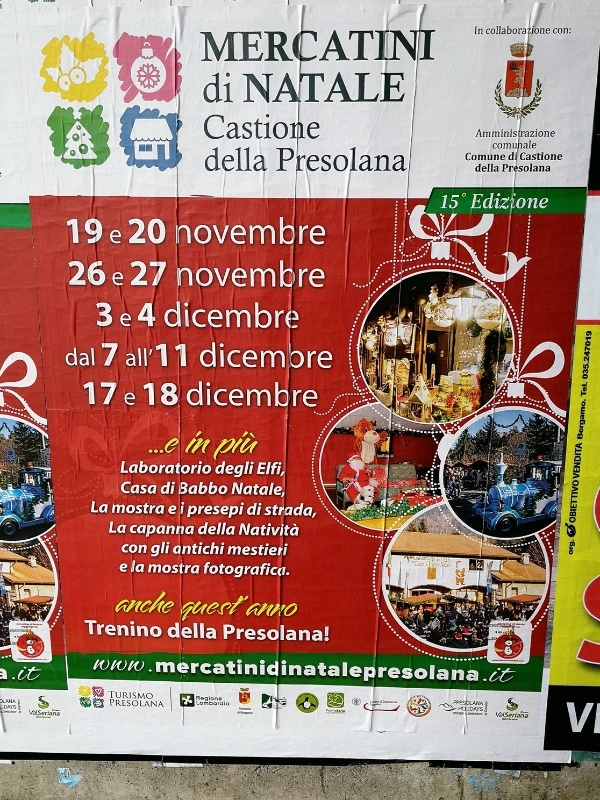text: (577, 697, 592, 740), (129, 580, 144, 616), (145, 580, 160, 616), (161, 580, 176, 616), (209, 71, 224, 106), (225, 426, 240, 461), (241, 426, 256, 461), (209, 30, 224, 64), (225, 30, 240, 64), (241, 30, 256, 64), (257, 30, 272, 64), (273, 30, 288, 64), (289, 30, 304, 64), (305, 30, 320, 64), (321, 30, 336, 64), (337, 30, 352, 64), (353, 30, 368, 64), (369, 30, 384, 64), (385, 30, 400, 64), (401, 30, 416, 64), (417, 30, 432, 64), (177, 257, 192, 291), (193, 257, 208, 291), (209, 257, 224, 291), (225, 257, 240, 291), (241, 257, 256, 291), (257, 257, 272, 291), (273, 257, 288, 291), (289, 257, 304, 291), (305, 257, 320, 291), (257, 72, 272, 105), (273, 72, 288, 105), (289, 72, 304, 105), (305, 72, 320, 105), (321, 72, 336, 105), (337, 72, 352, 105), (353, 72, 368, 105), (369, 72, 384, 105), (385, 72, 400, 105), (585, 330, 592, 398), (177, 215, 192, 246), (193, 215, 208, 246), (209, 215, 224, 246), (225, 215, 240, 246), (241, 215, 256, 246), (257, 215, 272, 246), (273, 215, 288, 246), (289, 215, 304, 246), (305, 215, 320, 246), (242, 72, 256, 105), (129, 218, 144, 247), (145, 218, 160, 247), (177, 301, 192, 330), (193, 301, 208, 330), (209, 301, 224, 330), (225, 301, 240, 330), (241, 301, 256, 330), (257, 301, 272, 330), (273, 301, 288, 330), (97, 657, 112, 686), (113, 657, 128, 686), (129, 657, 144, 686), (145, 657, 160, 686), (161, 657, 176, 686), (177, 657, 192, 686), (193, 657, 208, 686), (209, 657, 224, 686), (225, 657, 240, 686), (241, 657, 256, 686), (257, 657, 272, 686), (273, 657, 288, 686), (289, 657, 304, 686), (305, 657, 320, 686), (321, 657, 336, 686), (337, 657, 352, 686), (353, 657, 368, 686), (369, 657, 384, 686), (385, 657, 400, 686), (401, 657, 416, 686), (417, 657, 432, 686), (433, 657, 448, 686), (449, 657, 464, 686), (465, 657, 480, 686), (481, 657, 496, 686), (497, 657, 512, 686), (209, 113, 224, 141), (225, 113, 240, 141), (241, 113, 256, 141), (257, 113, 272, 141), (273, 113, 288, 141), (289, 113, 304, 141), (305, 113, 320, 141), (582, 398, 592, 440), (81, 217, 96, 245), (209, 341, 224, 369), (225, 341, 240, 369), (241, 341, 256, 369), (257, 341, 272, 369), (273, 341, 288, 369), (289, 341, 304, 369), (305, 341, 320, 369), (209, 146, 224, 173), (225, 146, 240, 173), (241, 146, 256, 173), (289, 146, 304, 173), (305, 146, 320, 173), (321, 146, 336, 173), (337, 146, 352, 173), (353, 146, 368, 173), (369, 146, 384, 173), (385, 146, 400, 173), (577, 443, 582, 524), (81, 260, 96, 287), (193, 594, 208, 621), (209, 594, 224, 621), (225, 594, 240, 621), (145, 261, 160, 287), (97, 302, 112, 327), (193, 382, 208, 407), (209, 382, 224, 407), (225, 382, 240, 407), (241, 382, 256, 407), (257, 382, 272, 407), (273, 382, 288, 407), (289, 382, 304, 407), (67, 217, 80, 245), (161, 344, 176, 368), (164, 301, 176, 330), (145, 383, 160, 406), (161, 383, 176, 406), (568, 697, 576, 740), (131, 261, 144, 287), (321, 341, 333, 369), (97, 383, 112, 405), (305, 382, 318, 407), (68, 260, 80, 287), (180, 594, 192, 621), (225, 71, 234, 106), (81, 347, 96, 368), (593, 697, 600, 740), (129, 348, 144, 368), (257, 146, 268, 173), (277, 146, 288, 173), (241, 594, 252, 621), (66, 347, 80, 368), (289, 301, 299, 330), (83, 383, 96, 405), (481, 191, 496, 210), (497, 191, 512, 210), (513, 191, 528, 210), (529, 191, 544, 210), (225, 462, 240, 481), (209, 561, 224, 580), (225, 561, 240, 580), (241, 561, 256, 580), (257, 561, 272, 580), (273, 561, 288, 580), (97, 619, 112, 638), (113, 619, 128, 638), (129, 619, 144, 638), (145, 619, 160, 638), (200, 30, 208, 64), (225, 624, 240, 642), (241, 624, 256, 642), (257, 624, 272, 642), (273, 624, 288, 642), (289, 624, 304, 642), (305, 624, 320, 642), (177, 622, 192, 640), (193, 622, 208, 640), (145, 304, 156, 328), (305, 503, 321, 519), (273, 462, 289, 478), (273, 482, 289, 498), (449, 192, 464, 209), (161, 437, 176, 454), (199, 341, 208, 369), (121, 580, 128, 616), (241, 462, 254, 481), (97, 260, 106, 287), (177, 344, 187, 368), (273, 503, 288, 519), (289, 503, 304, 519), (241, 482, 256, 498), (257, 482, 272, 498), (193, 503, 208, 519), (209, 503, 224, 519), (225, 503, 240, 519), (129, 460, 144, 475), (145, 460, 160, 475), (161, 460, 176, 475), (177, 460, 192, 475), (193, 460, 208, 475), (241, 522, 256, 537), (257, 522, 272, 537), (273, 522, 288, 537), (257, 602, 272, 617), (273, 602, 288, 617), (17, 666, 32, 681), (1, 669, 16, 684), (97, 217, 105, 245), (200, 429, 208, 457), (273, 542, 289, 556), (202, 71, 208, 106), (129, 481, 144, 495), (193, 481, 208, 495), (209, 481, 224, 495), (209, 521, 224, 535), (241, 542, 256, 556), (257, 542, 272, 556), (85, 619, 96, 638), (259, 462, 272, 478), (209, 542, 225, 555), (148, 437, 160, 454), (113, 503, 128, 516), (129, 503, 144, 516), (145, 503, 160, 516), (145, 525, 160, 538), (161, 525, 176, 538), (177, 525, 192, 538), (177, 542, 192, 555), (193, 542, 208, 555), (33, 666, 46, 681), (321, 215, 327, 246), (161, 261, 168, 287), (163, 481, 176, 495), (113, 520, 126, 534), (130, 525, 144, 538), (289, 602, 301, 617), (113, 271, 124, 287), (161, 218, 167, 247), (513, 657, 519, 686), (145, 481, 157, 495), (289, 522, 300, 537), (161, 563, 176, 574), (177, 563, 192, 574), (485, 701, 496, 716), (401, 146, 407, 173), (321, 624, 330, 642), (145, 348, 153, 368), (97, 501, 109, 514), (181, 481, 192, 495), (181, 502, 192, 516), (497, 140, 512, 150), (513, 140, 528, 150), (481, 152, 496, 162), (513, 163, 528, 173), (529, 163, 544, 173), (129, 544, 144, 554), (138, 304, 144, 328), (168, 622, 176, 640), (209, 622, 217, 640), (133, 560, 144, 573), (466, 152, 480, 162), (220, 426, 224, 461), (225, 521, 235, 535), (230, 542, 240, 556), (433, 30, 437, 64), (321, 257, 325, 291), (497, 26, 512, 35), (513, 26, 528, 35), (529, 26, 544, 35), (481, 129, 496, 138), (497, 129, 512, 138), (513, 129, 528, 138), (529, 129, 544, 138), (529, 152, 544, 161), (545, 152, 560, 161), (481, 163, 496, 172), (151, 542, 160, 557), (161, 542, 170, 557), (113, 699, 128, 708), (129, 699, 144, 708), (145, 699, 160, 708), (217, 462, 224, 481), (401, 72, 405, 105), (119, 313, 128, 327), (199, 521, 208, 535), (187, 382, 192, 407), (149, 563, 160, 574), (113, 230, 121, 245), (155, 344, 160, 368), (113, 691, 128, 699), (129, 691, 144, 699), (474, 191, 480, 210), (204, 113, 208, 141), (233, 482, 240, 498), (120, 481, 128, 495), (248, 502, 256, 516), (113, 383, 118, 405), (177, 580, 180, 616), (569, 540, 576, 555), (121, 460, 128, 475), (497, 712, 512, 719), (513, 712, 528, 719), (442, 192, 448, 209), (18, 704, 32, 711), (209, 696, 222, 703), (545, 129, 555, 138), (503, 163, 512, 173), (33, 710, 48, 716), (465, 706, 480, 712), (168, 505, 176, 516), (177, 437, 182, 454), (129, 392, 135, 406), (209, 429, 212, 457), (205, 146, 208, 173), (487, 26, 496, 35), (575, 443, 576, 524), (561, 27, 571, 35), (529, 140, 537, 150), (497, 152, 505, 162), (267, 503, 272, 519), (120, 563, 128, 573), (193, 563, 200, 574), (197, 696, 208, 703), (545, 191, 549, 210), (204, 561, 208, 580), (251, 602, 256, 617), (1, 705, 16, 710), (209, 701, 224, 706), (465, 701, 480, 706), (520, 152, 528, 161), (257, 426, 259, 461), (225, 481, 230, 495), (257, 502, 262, 516), (18, 699, 32, 704), (49, 710, 60, 716), (3, 699, 16, 704), (145, 691, 153, 699), (545, 163, 551, 173), (209, 460, 213, 475), (553, 27, 560, 35), (124, 392, 128, 406), (370, 703, 384, 707), (197, 701, 208, 706), (545, 26, 551, 35), (92, 501, 96, 514), (19, 710, 32, 714), (467, 712, 480, 716), (475, 26, 480, 36), (123, 544, 128, 554), (454, 701, 464, 706), (189, 503, 192, 519), (241, 503, 244, 519), (241, 711, 253, 715), (513, 152, 518, 161), (475, 163, 480, 172), (1, 711, 16, 714), (241, 707, 252, 711), (453, 712, 464, 716), (492, 140, 496, 150), (126, 348, 128, 368), (326, 709, 336, 713), (161, 503, 164, 516), (35, 716, 48, 719), (161, 619, 163, 638), (385, 701, 397, 704), (465, 192, 467, 209), (337, 709, 345, 713), (110, 230, 112, 245), (459, 706, 464, 712), (502, 718, 512, 721), (497, 660, 512, 662), (127, 218, 128, 247), (129, 313, 131, 327), (370, 701, 384, 703), (509, 152, 512, 161), (161, 699, 164, 708), (225, 701, 230, 706), (28, 710, 32, 716), (109, 691, 112, 699), (177, 383, 178, 406), (513, 660, 524, 662), (481, 26, 483, 36), (145, 544, 147, 554), (289, 561, 290, 580), (561, 152, 563, 161), (497, 163, 499, 172), (223, 624, 224, 642), (110, 699, 112, 708), (481, 701, 484, 706), (513, 718, 518, 721), (111, 520, 112, 534), (193, 525, 194, 538), (175, 542, 176, 555), (380, 701, 384, 704), (481, 706, 483, 712), (479, 129, 480, 138), (238, 711, 240, 715), (481, 712, 483, 716), (49, 716, 51, 719), (493, 660, 496, 662), (239, 707, 240, 711), (383, 701, 384, 704)
